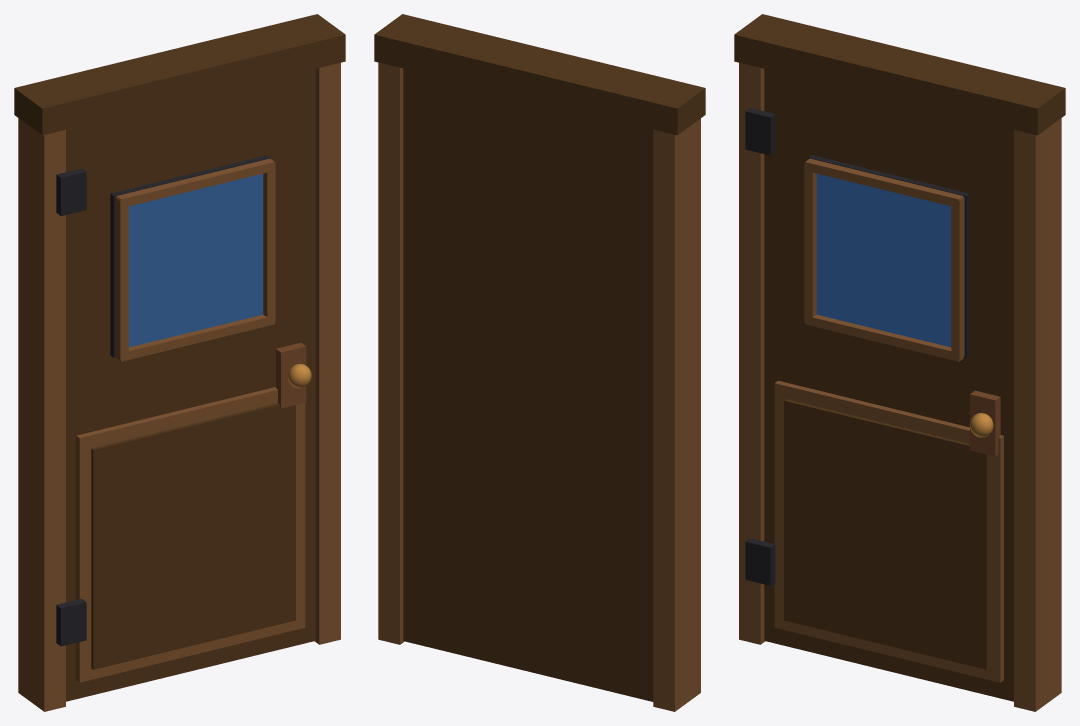
File: mia-door.glb
3 views of the same model, side by side, from view 1: azimuth 30°, elevation 25°; view 2: azimuth 150°, elevation 25°; view 3: azimuth 330°, elevation 25° (orthographic).
Parts seen in each view (by area): view 1: Body_wood, Body_oak, Body_night-glass, Body_iron, Body_rust; view 2: Body_wood, Body_oak; view 3: Body_wood, Body_oak, Body_night-glass, Body_iron, Body_rust.
Boxes of the visible parts, x1,y1,x2,y2 form: Body_wood: [14, 14, 345, 701]; Body_oak: [18, 62, 340, 711]; Body_night-glass: [128, 173, 263, 347]; Body_iron: [56, 155, 271, 646]; Body_rust: [276, 342, 306, 408]; Body_wood: [374, 14, 705, 701]; Body_oak: [378, 62, 700, 711]; Body_wood: [734, 14, 1065, 701]; Body_oak: [739, 62, 1061, 711]; Body_night-glass: [816, 173, 951, 347]; Body_iron: [745, 108, 969, 585]; Body_rust: [970, 390, 1000, 456].
Bounding box in the file's own units: 1.21 × 2.3 × 0.267.
